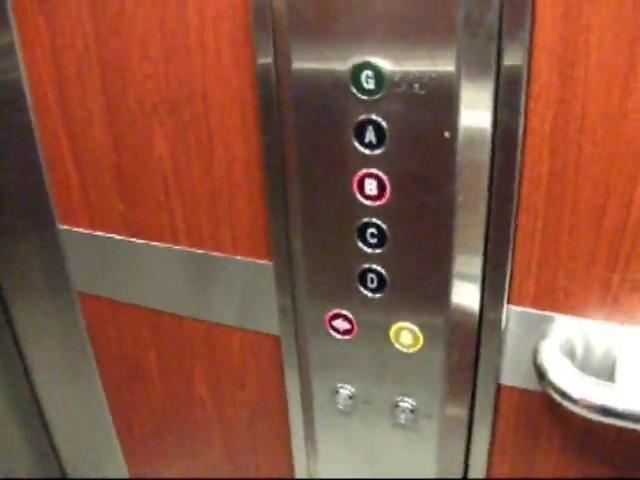A: (349, 111, 392, 159)
B: (350, 165, 392, 207)
C: (351, 213, 394, 256)
D: (352, 261, 392, 301)
G: (345, 58, 388, 101)
alarm: (386, 317, 425, 355)
keyhole: (390, 392, 420, 425), (328, 382, 358, 413)
open: (324, 306, 358, 341)
